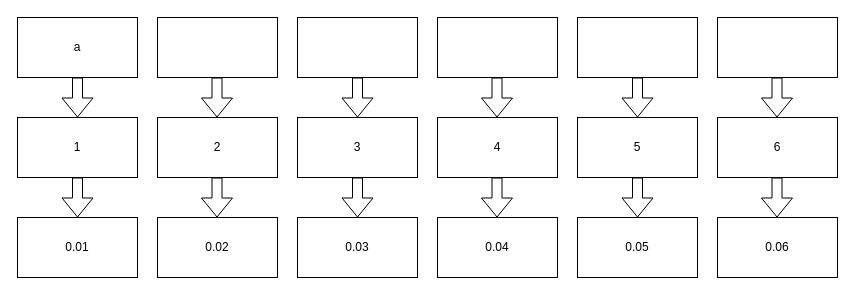
Some shapes in this 855 by 295 pixel diagram are drawn without their labels. The centre of each missing label's shape, as x and y in pixels:
"aa" belongs at pixel 217 47.
"aaa" belongs at pixel 357 47.
"aardvark" belongs at pixel 497 47.
"aaron" belongs at pixel 637 47.
"ab" belongs at pixel 777 47.
